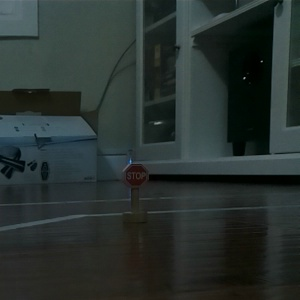stop sign: (120, 162, 151, 224)
